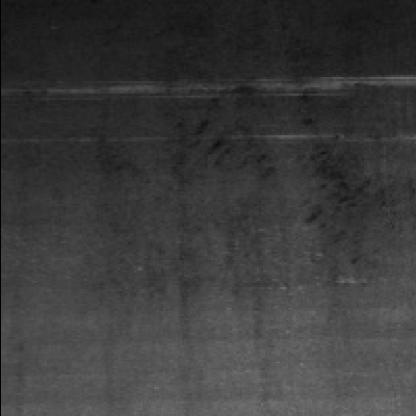scratches: (17, 77, 416, 106)
